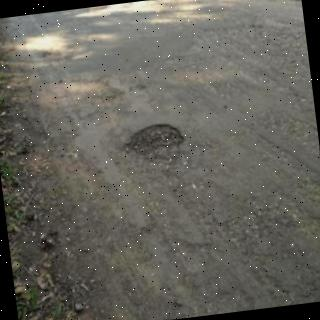pothole: (125, 124, 186, 158)
